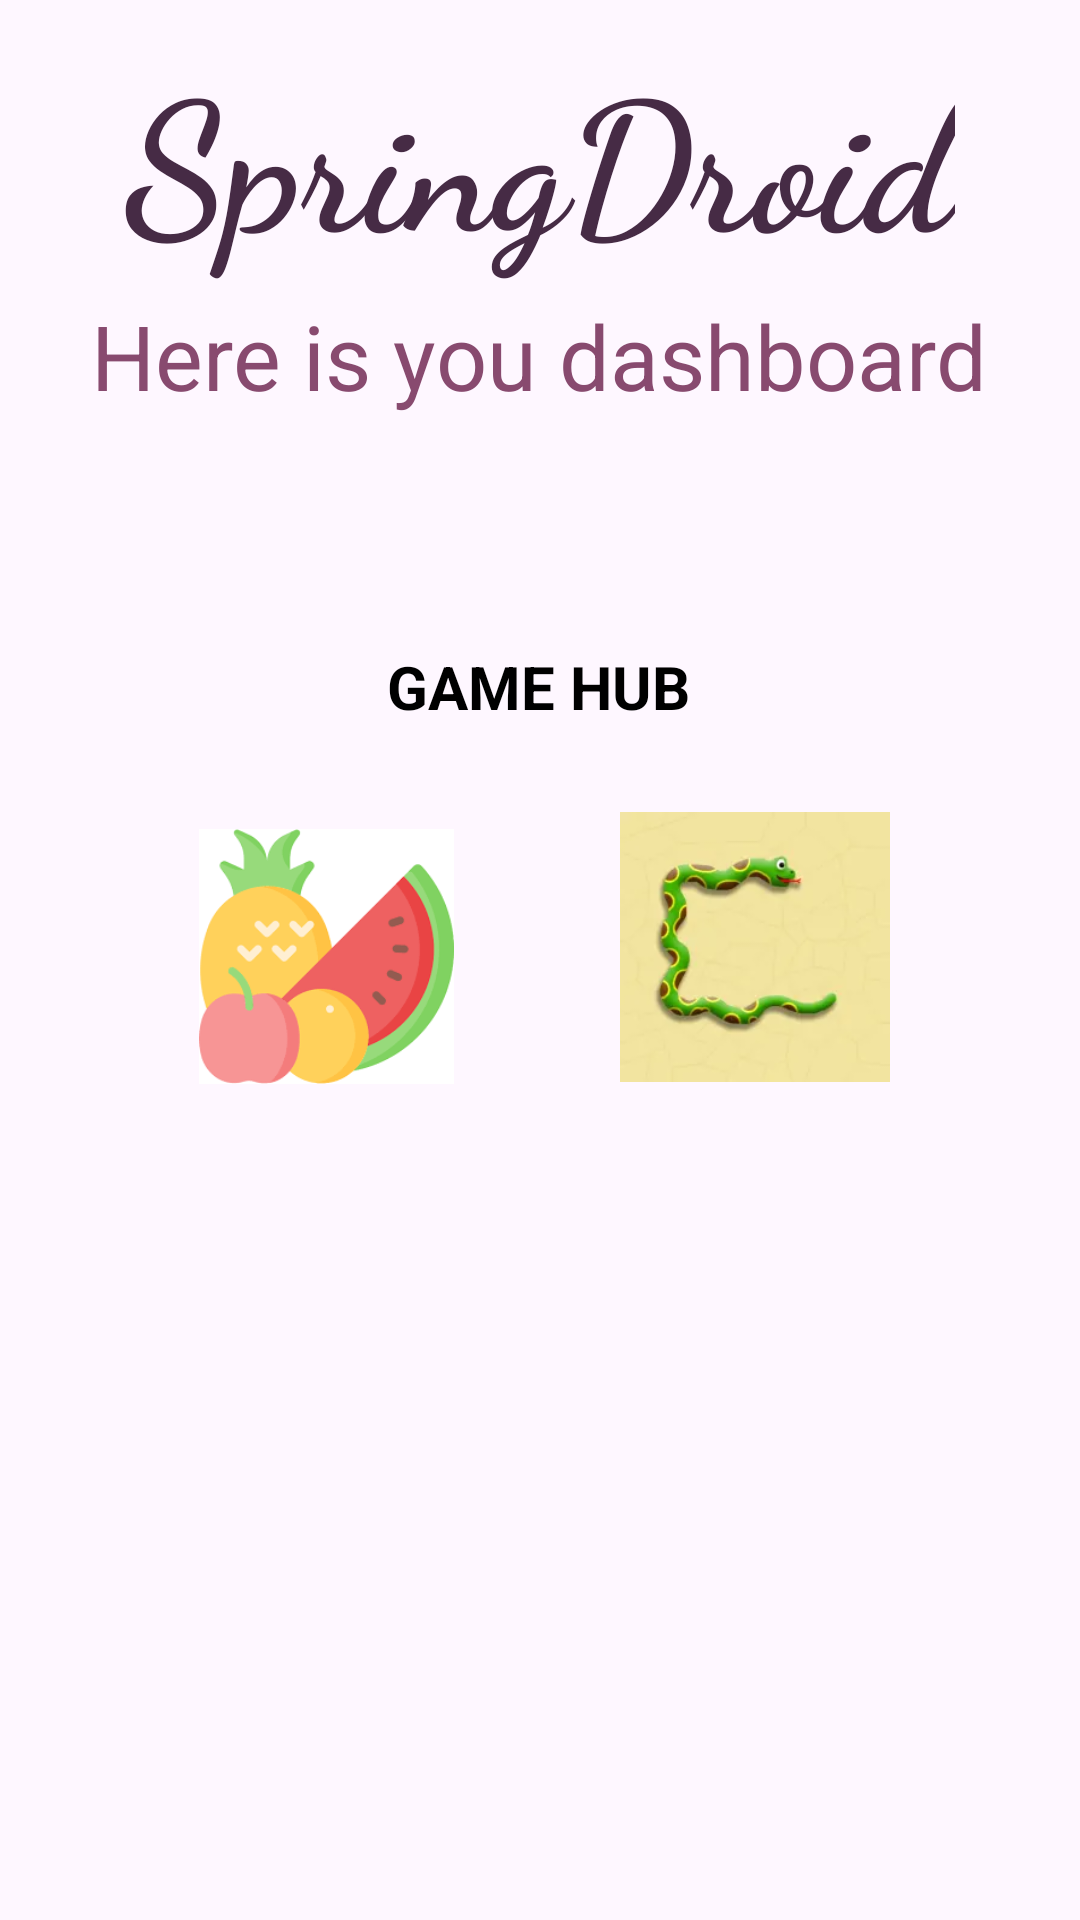

Screen size 1080*1920. Icon name, then its center in pixels as (x=x, y=y):
fruit: (x=326, y=956)
snakes: (x=755, y=947)
